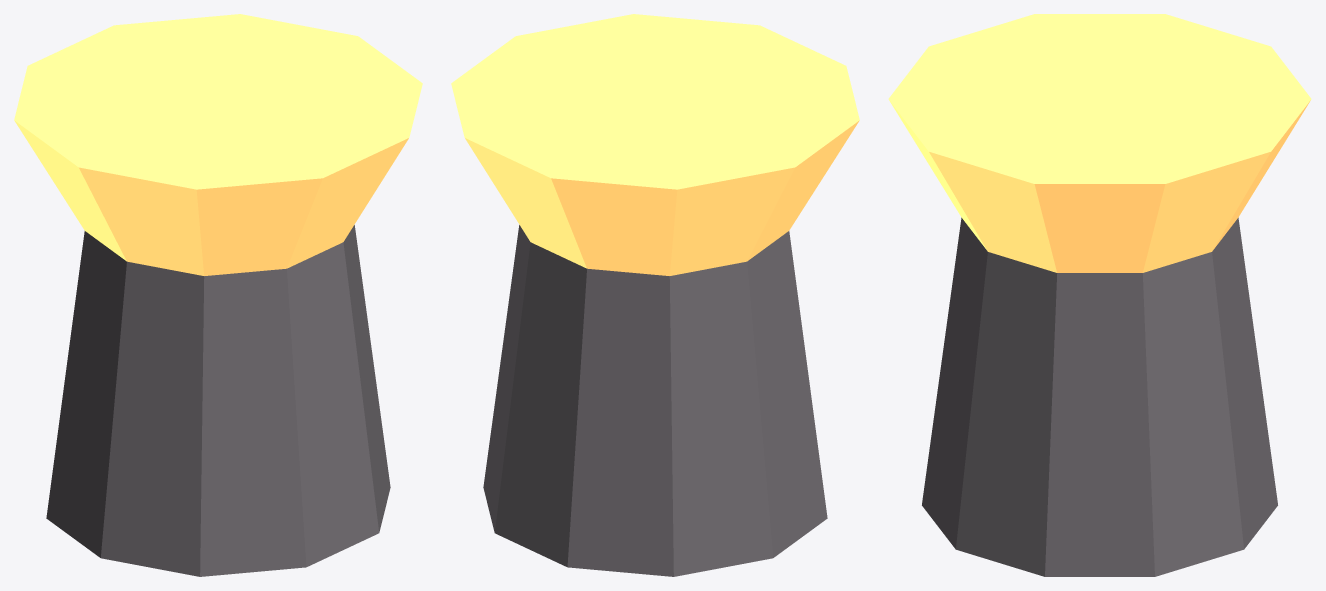
Rendered from prop_intact.glb.
3 views of the same model, side by side, from view 1: azimuth 30°, elevation 25°; view 2: azimuth 150°, elevation 25°; view 3: azimuth 270°, elevation 25° (orthographic).
Parts seen in each view (by area): view 1: BrazierBase, BrazierBowl; view 2: BrazierBase, BrazierBowl; view 3: BrazierBase, BrazierBowl.
Boxes of the visible parts, x1,y1,x2,y2 form: BrazierBase: (46, 225, 390, 576); BrazierBowl: (14, 14, 422, 275); BrazierBase: (483, 225, 827, 576); BrazierBowl: (451, 14, 859, 275); BrazierBase: (922, 217, 1277, 576); BrazierBowl: (888, 14, 1311, 272).
Bounding box in the file's own units: 0.7228 × 0.805 × 0.76.
